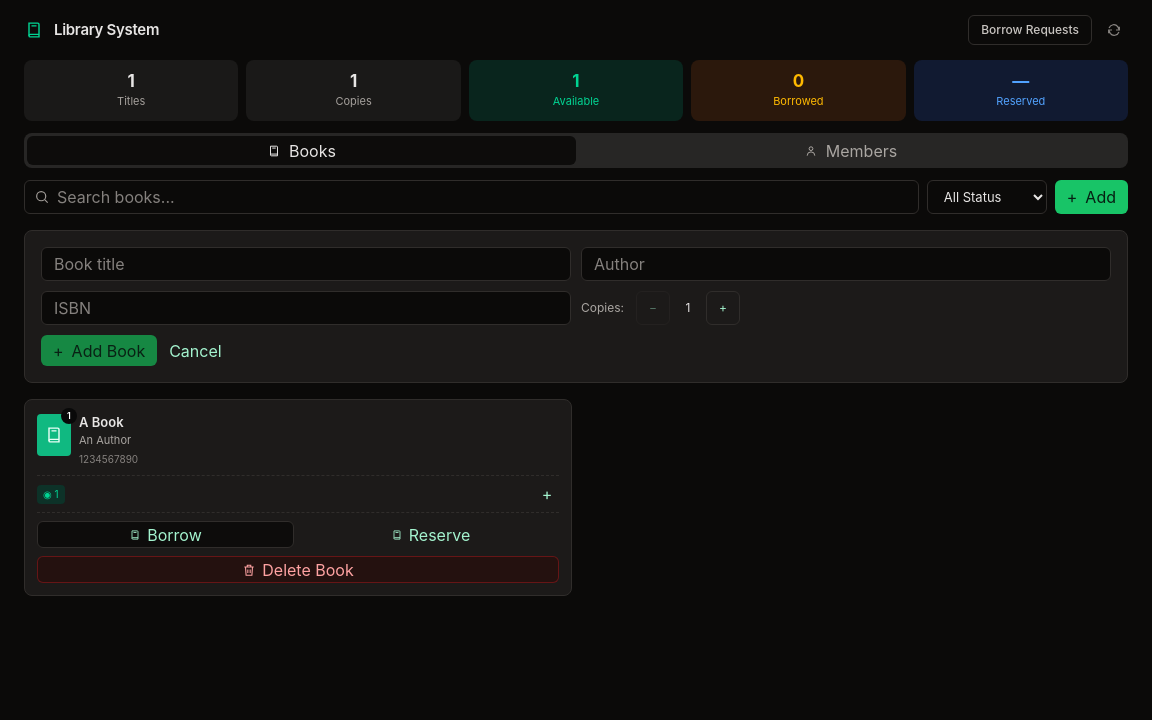
Test: CatalogManagementPage deletion controls › shows a confirmation and deletes books for librarians
Click the button with aria-label "Delete A Book" at (298, 570), box [37,556,559,583]
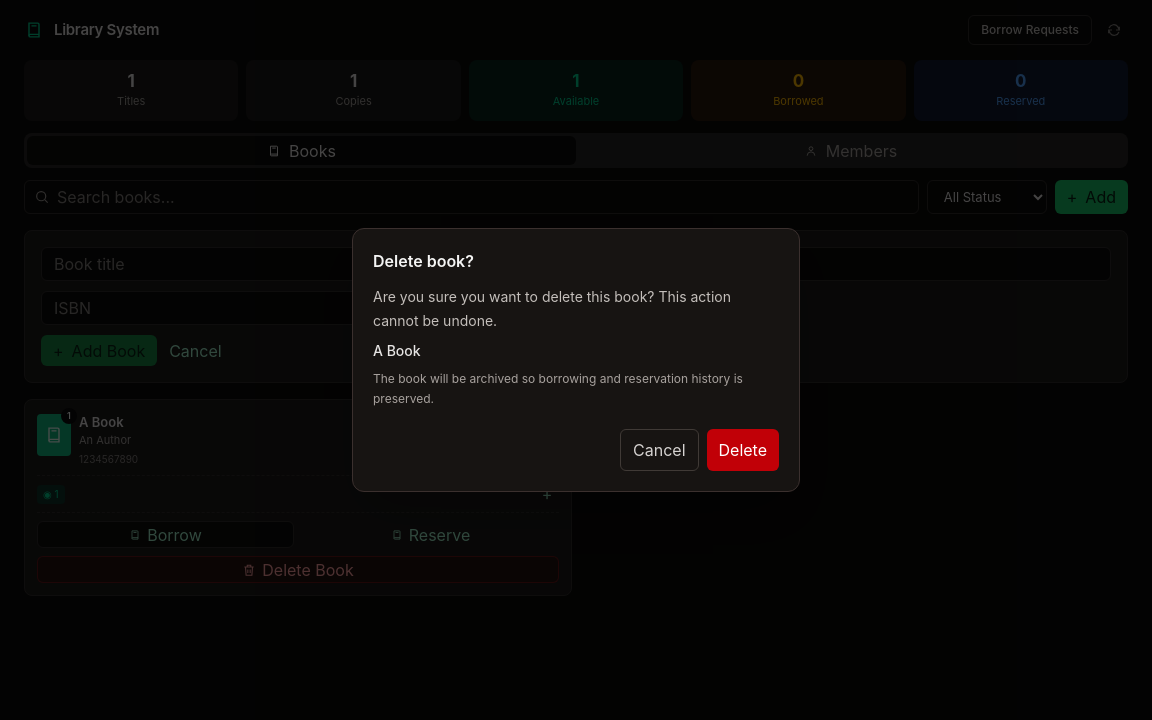
Expected: the text "Are you sure you want to delete this book? This action cannot be undone." is shown, [373,285,779,333]
Click the button "Cancel" at (659, 450), box [620,429,698,471]
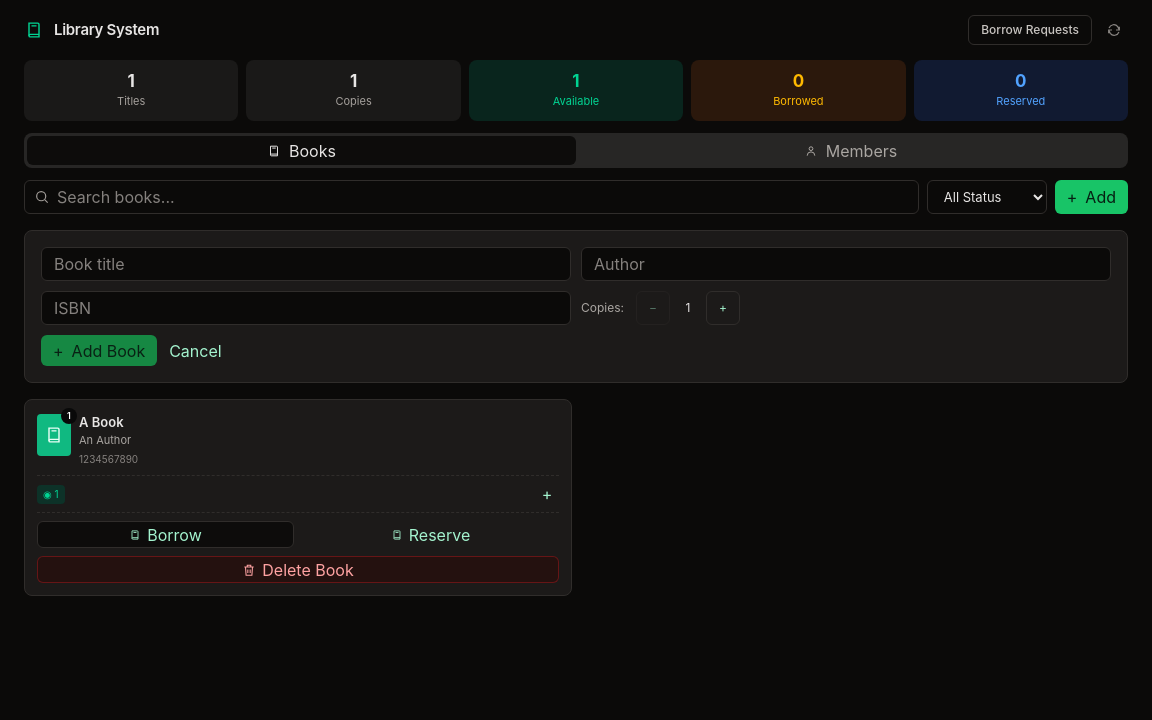
Expected: the dialog is gone
Click the button with aria-label "Delete A Book" at (298, 570), box [37,556,559,583]
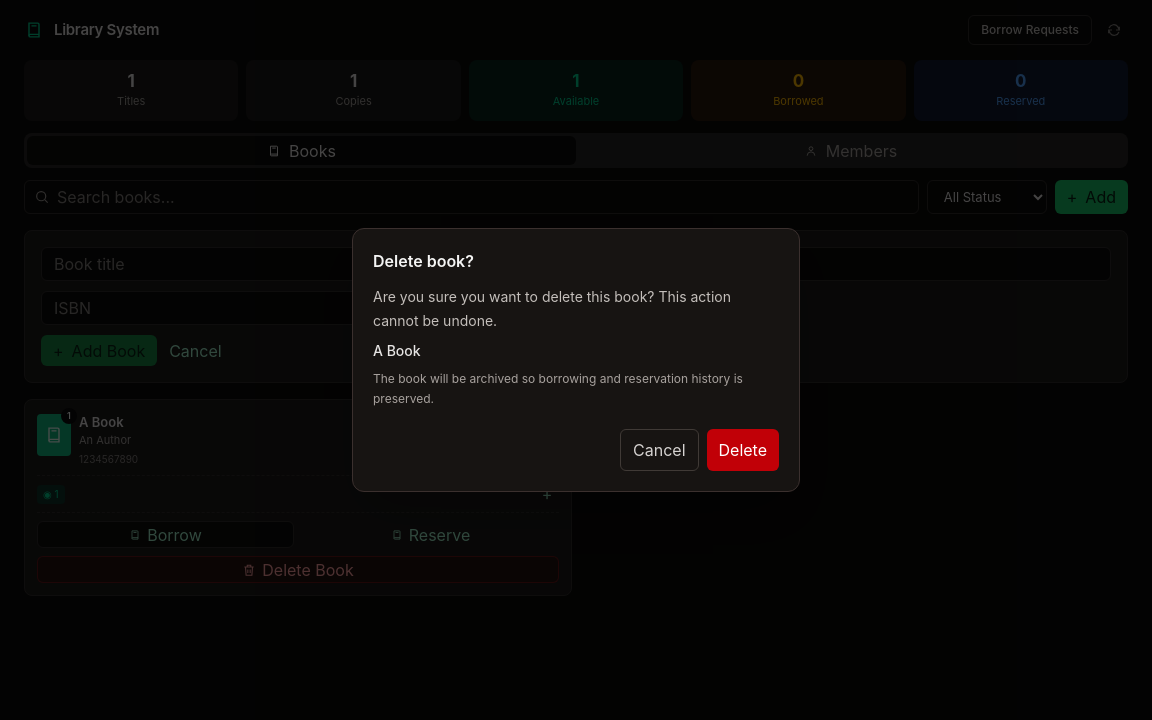
Click the button "Delete" at (743, 450), box [706,429,779,471]
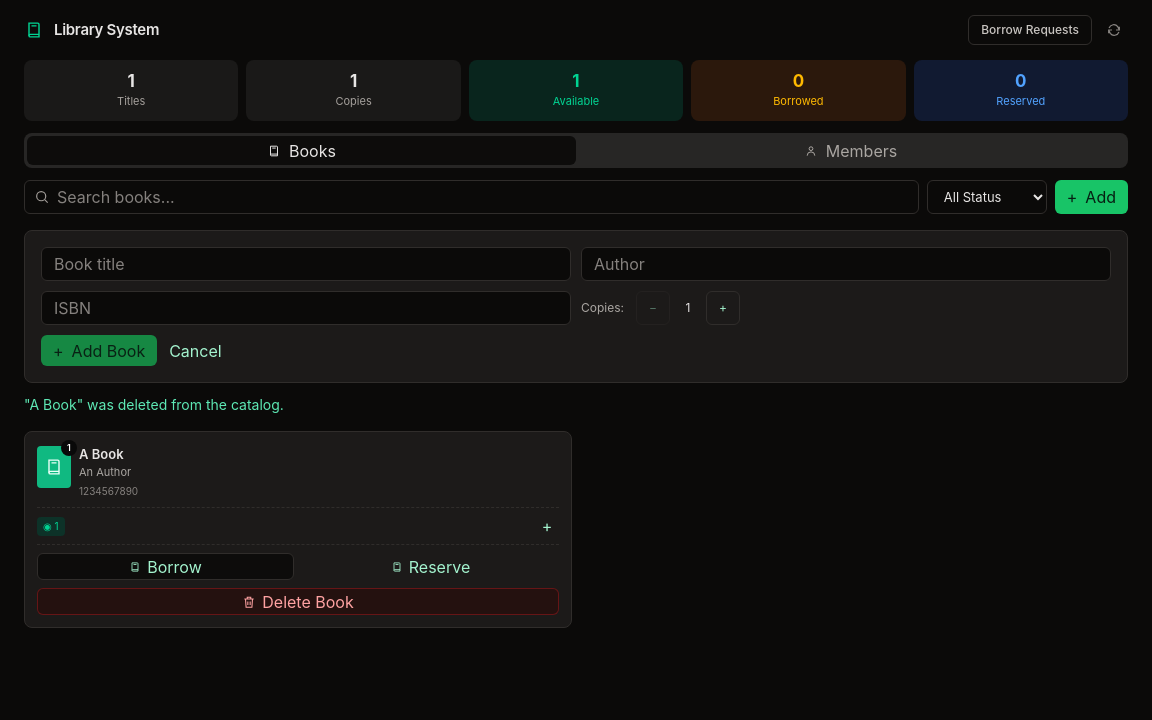
Expected: the message reads "\"A Book\" was deleted from the catalog.", [24,396,284,413]
